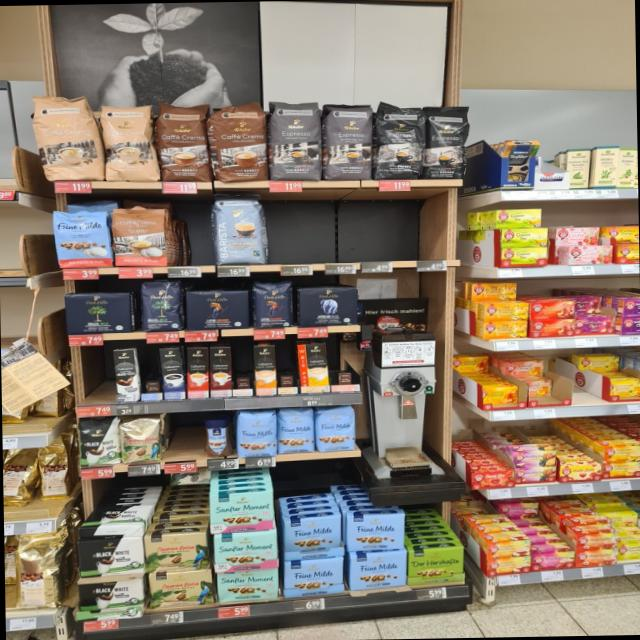AB Gemahlen: (298, 286, 360, 326)
BM Bohne: (138, 279, 182, 331)
BM Gemahlen: (64, 292, 134, 334)
BW Bohne: (75, 421, 121, 466)
BW Gemahlen: (78, 536, 144, 577), (77, 580, 142, 612)
Barista CC: (210, 196, 269, 264)
CC Mild: (29, 91, 102, 182), (100, 102, 159, 184)
CC Vollmundig: (112, 206, 168, 268)
CC Vollmundig 36 Pads: (210, 98, 268, 182), (156, 100, 212, 182)
Colombia BB Bohne: (120, 418, 162, 462)
Colombia BB Gemahlen: (143, 534, 210, 572), (146, 570, 212, 608)
Empty Shelf: (272, 190, 452, 262), (168, 202, 214, 265), (74, 346, 115, 403), (165, 415, 203, 461), (330, 340, 360, 384), (138, 347, 161, 393), (232, 345, 254, 389), (277, 342, 298, 387)
Espresso Aromatisch: (268, 92, 324, 180), (322, 100, 374, 180)
Espresso Kraftig: (424, 103, 471, 177)
Espresso S Art: (373, 100, 425, 178)
FM 36 Pads: (52, 205, 111, 266)
FM Bohne: (238, 408, 278, 456), (316, 407, 356, 452), (278, 408, 314, 453)
FM Gemahlen: (282, 557, 344, 597), (344, 512, 406, 550), (349, 550, 408, 588), (286, 516, 340, 552)
FM Instant: (202, 416, 234, 458)
Herzhatfe Mundig: (408, 547, 464, 584)
LG Bohne: (252, 281, 292, 327)
LG Gemahlen: (186, 290, 250, 330)
SM Gemahlen: (210, 488, 275, 532), (212, 530, 280, 572), (217, 570, 279, 602)
Simo CCMild bigpack: (297, 342, 329, 393)
Simo CCVollmundig bigpack: (254, 345, 277, 395)
Simo Es Brazil: (186, 347, 209, 398)
Simo Es Caramel: (210, 346, 232, 396)
Simo Es Elegant: (113, 348, 139, 401)
Simo Es Kraft: (159, 347, 186, 399)
